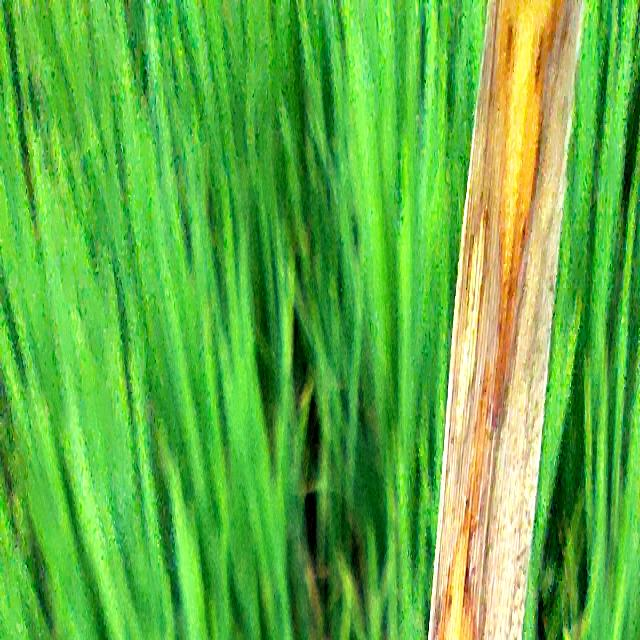NBS: (533, 26, 545, 94), (506, 22, 514, 64)
